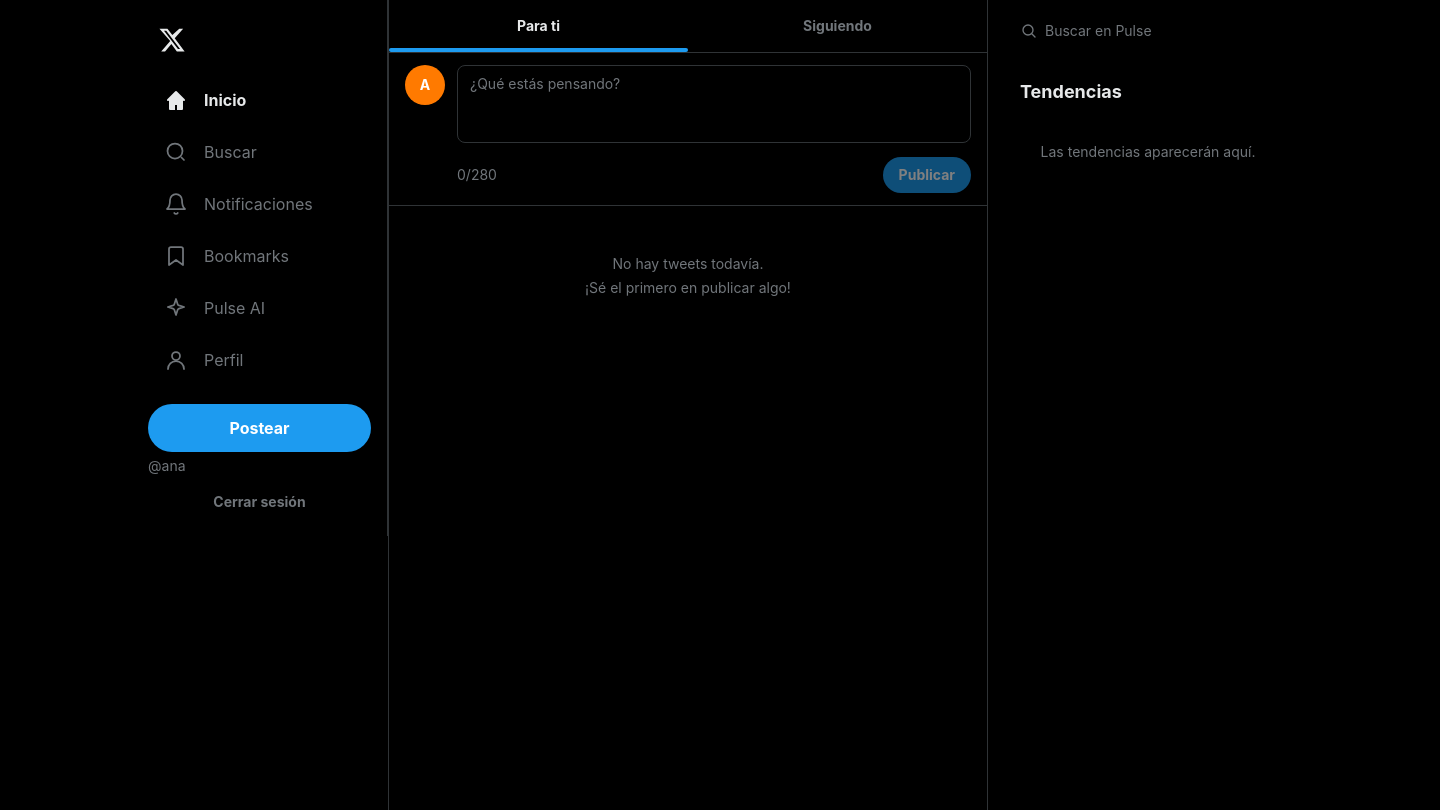
ComposeModal — modal de composición de tweet › escribir en el textarea actualiza el contador de caracteres
Click the button "Postear": (260, 428) top-left (148, 404), bottom-right (371, 452)
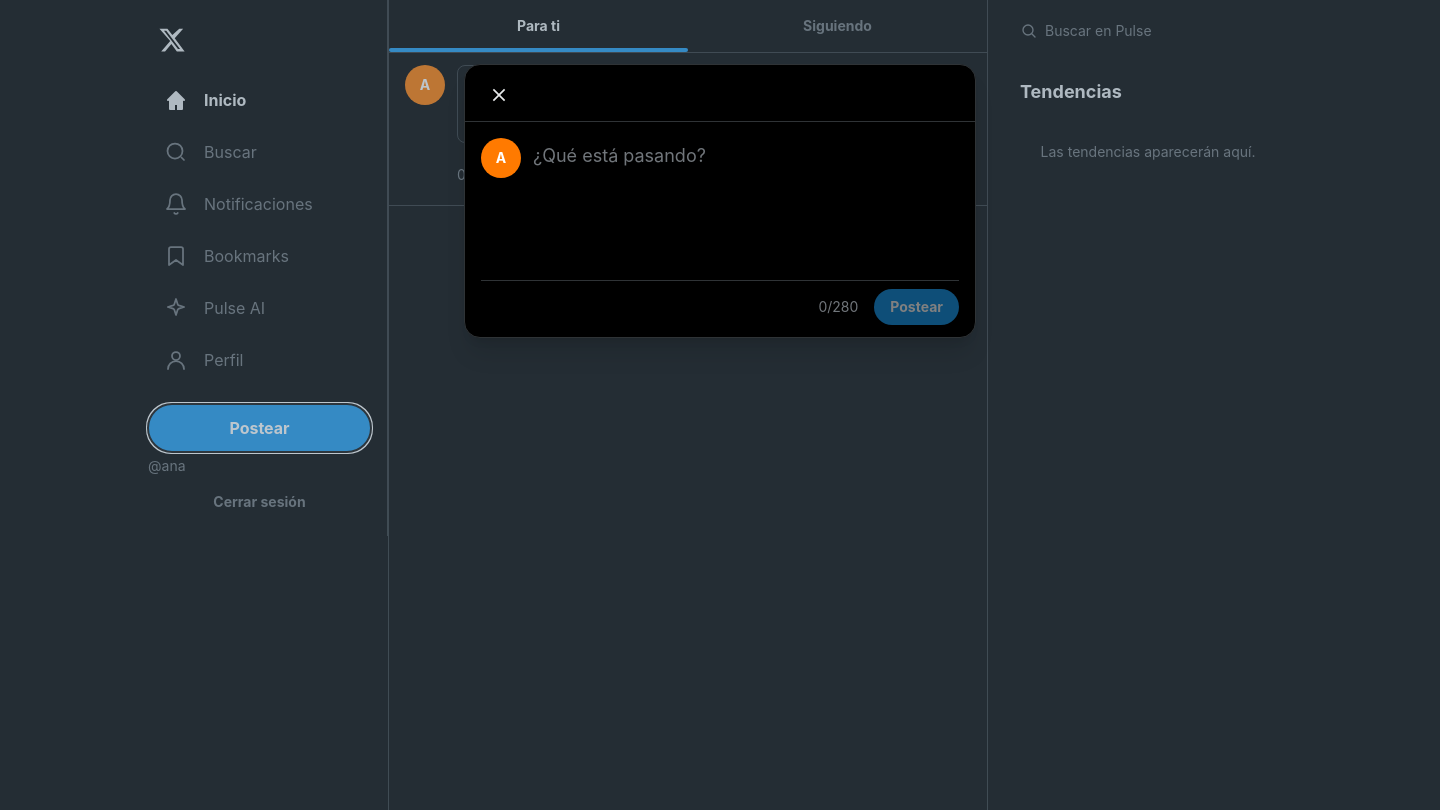
Expected: the dialog is shown, top-left (464, 64), bottom-right (976, 338)
Scoped al dialog para evitar ambigüedad con el TweetComposer de HomePage
In the text box with placeholder "¿Qué está pasando?": (746, 198) top-left (533, 134), bottom-right (959, 262), type "Hola mundo"
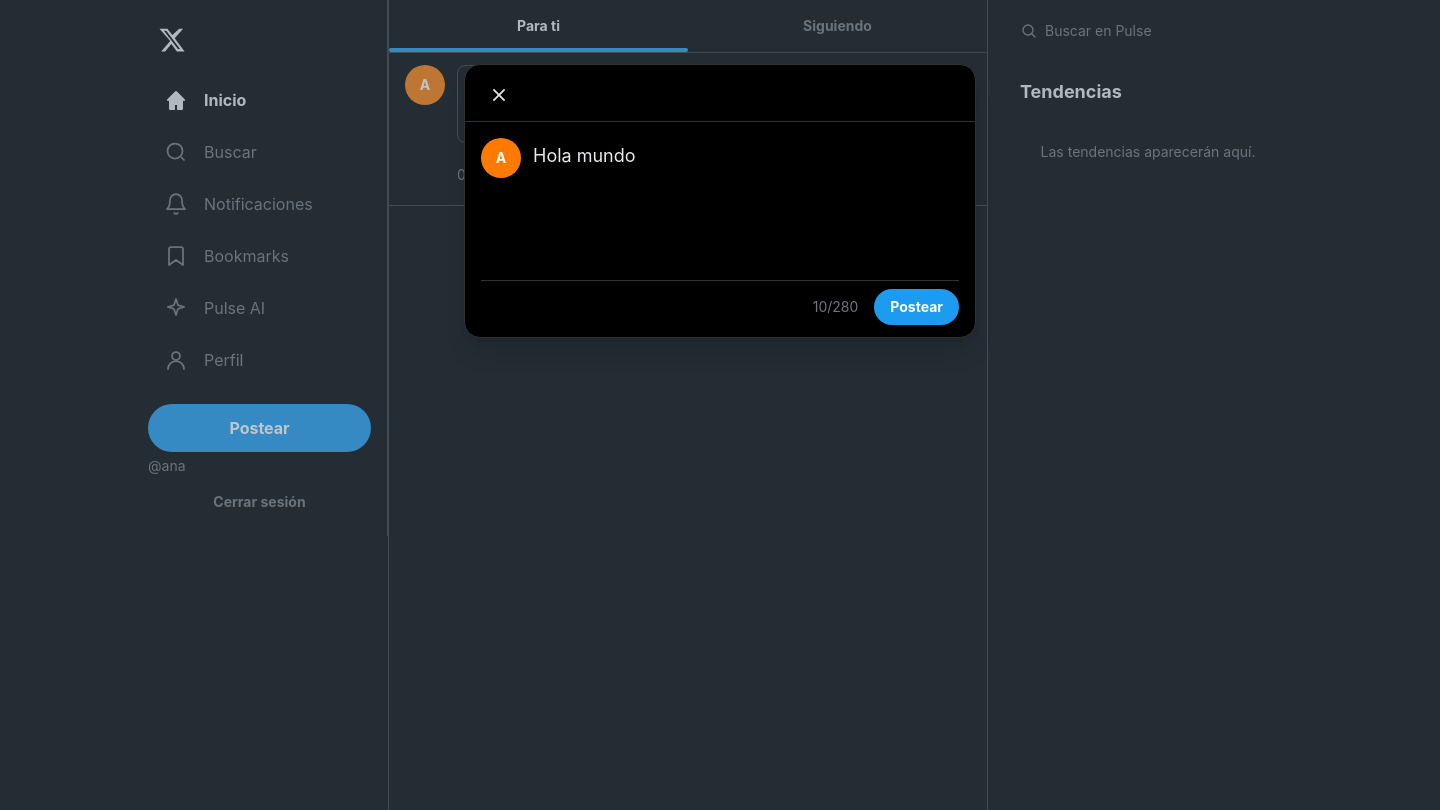
Expected: the text "10/280" is shown, top-left (813, 297), bottom-right (858, 317)
